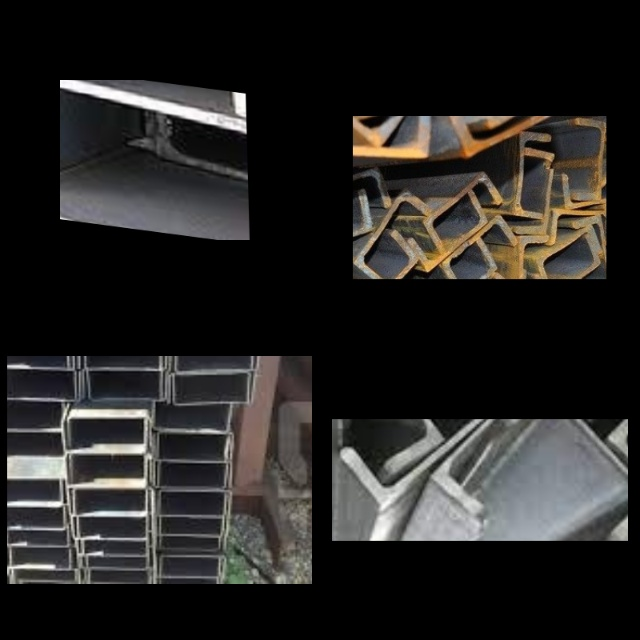Shveller: (60, 80, 250, 240), (435, 419, 591, 521), (511, 419, 628, 541), (345, 419, 501, 501), (60, 80, 246, 114), (358, 193, 430, 279), (60, 208, 250, 240), (426, 174, 501, 248), (332, 419, 438, 471), (413, 193, 485, 269), (447, 218, 516, 279), (539, 227, 601, 279), (353, 234, 417, 279), (423, 242, 496, 279), (519, 152, 552, 230), (536, 238, 598, 279), (65, 421, 146, 452), (174, 374, 254, 404), (572, 121, 603, 197), (520, 135, 549, 216), (169, 371, 249, 400), (69, 417, 151, 445), (353, 169, 388, 234), (66, 457, 147, 485), (153, 402, 231, 429), (7, 368, 77, 398), (89, 373, 166, 400), (84, 370, 161, 397), (71, 455, 145, 482), (7, 373, 79, 400), (155, 434, 227, 460), (159, 461, 231, 487), (575, 219, 606, 279), (158, 432, 232, 457), (69, 490, 147, 513), (155, 463, 226, 487), (74, 491, 154, 512), (551, 210, 606, 240), (159, 492, 231, 514), (7, 479, 63, 506), (157, 493, 225, 515), (72, 518, 146, 538), (8, 547, 71, 570), (564, 172, 606, 206), (77, 517, 151, 536), (7, 480, 67, 503), (7, 432, 65, 455), (7, 431, 62, 455), (11, 549, 78, 567), (175, 356, 260, 370), (171, 356, 253, 370), (7, 506, 70, 524), (162, 557, 225, 575), (7, 406, 63, 426), (83, 356, 168, 369), (156, 519, 224, 535), (160, 517, 227, 533), (353, 192, 370, 252), (78, 541, 145, 556), (160, 558, 219, 575), (522, 238, 546, 279), (7, 510, 64, 527), (79, 356, 161, 367), (7, 356, 73, 369), (160, 536, 226, 549), (83, 541, 147, 554), (157, 538, 220, 550), (89, 571, 149, 583), (87, 557, 150, 568), (85, 571, 147, 582), (81, 557, 146, 567)
